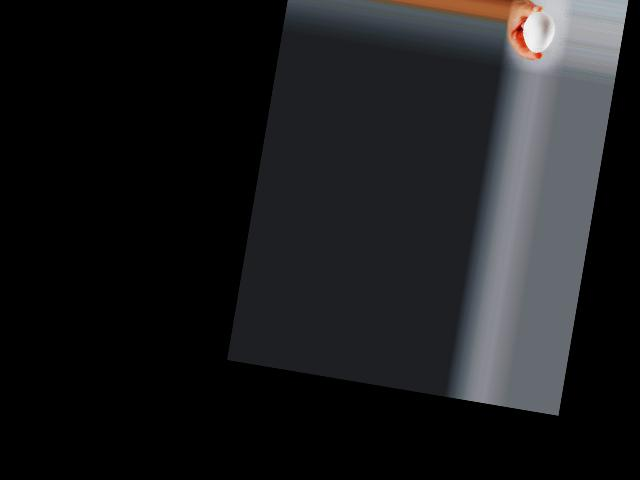egg: (520, 9, 556, 55)
